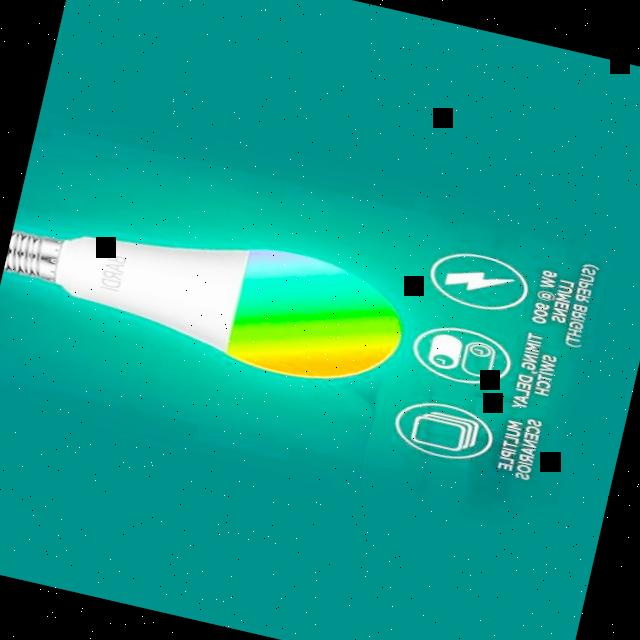light_bulb: (0, 181, 425, 405)
